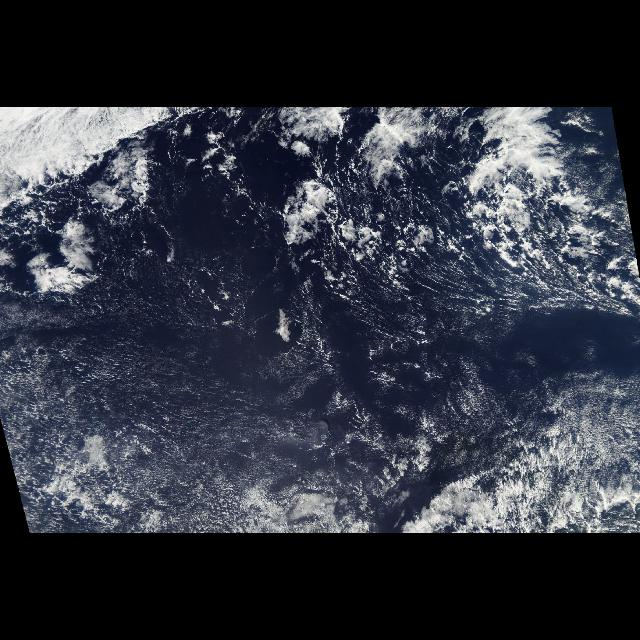Fish: (370, 108, 626, 316)
Gravel: (328, 182, 530, 331)
Sugar: (0, 263, 558, 533)
